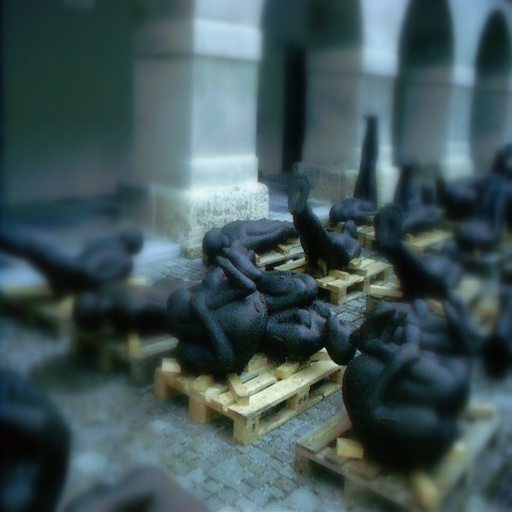hand: (411, 297, 432, 318), (404, 326, 422, 349), (398, 344, 420, 362), (188, 290, 205, 313), (294, 307, 312, 328), (312, 299, 331, 318), (203, 270, 219, 290), (276, 224, 290, 240), (332, 237, 344, 251), (222, 251, 233, 266)
